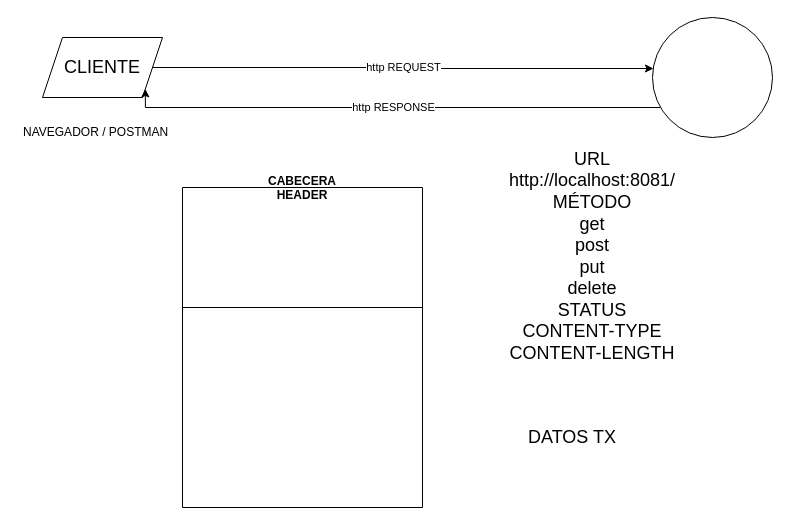
Some shapes in this 790 by 525 pixel diagram are drawn without their labels. Each missing label, with the centre of its shape:
"CUERPO BODY" belongs at (x=302, y=407).
"SERVIDOR" belongs at (x=712, y=77).
